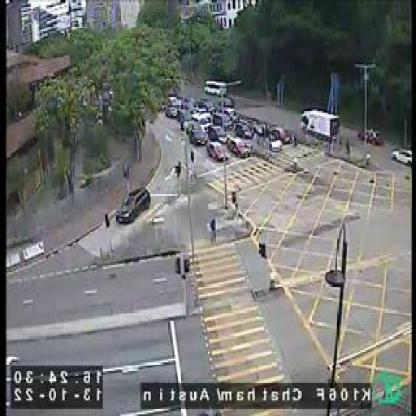Bus: (202, 78, 228, 98)
Car: (116, 189, 150, 223), (227, 134, 249, 158), (206, 140, 227, 164), (359, 125, 383, 146), (271, 124, 291, 147), (266, 128, 284, 153), (207, 124, 228, 145), (214, 112, 232, 136), (392, 148, 414, 166), (234, 120, 252, 142), (189, 114, 212, 131), (187, 128, 208, 144), (164, 106, 178, 117)
Truck: (300, 107, 340, 144)
